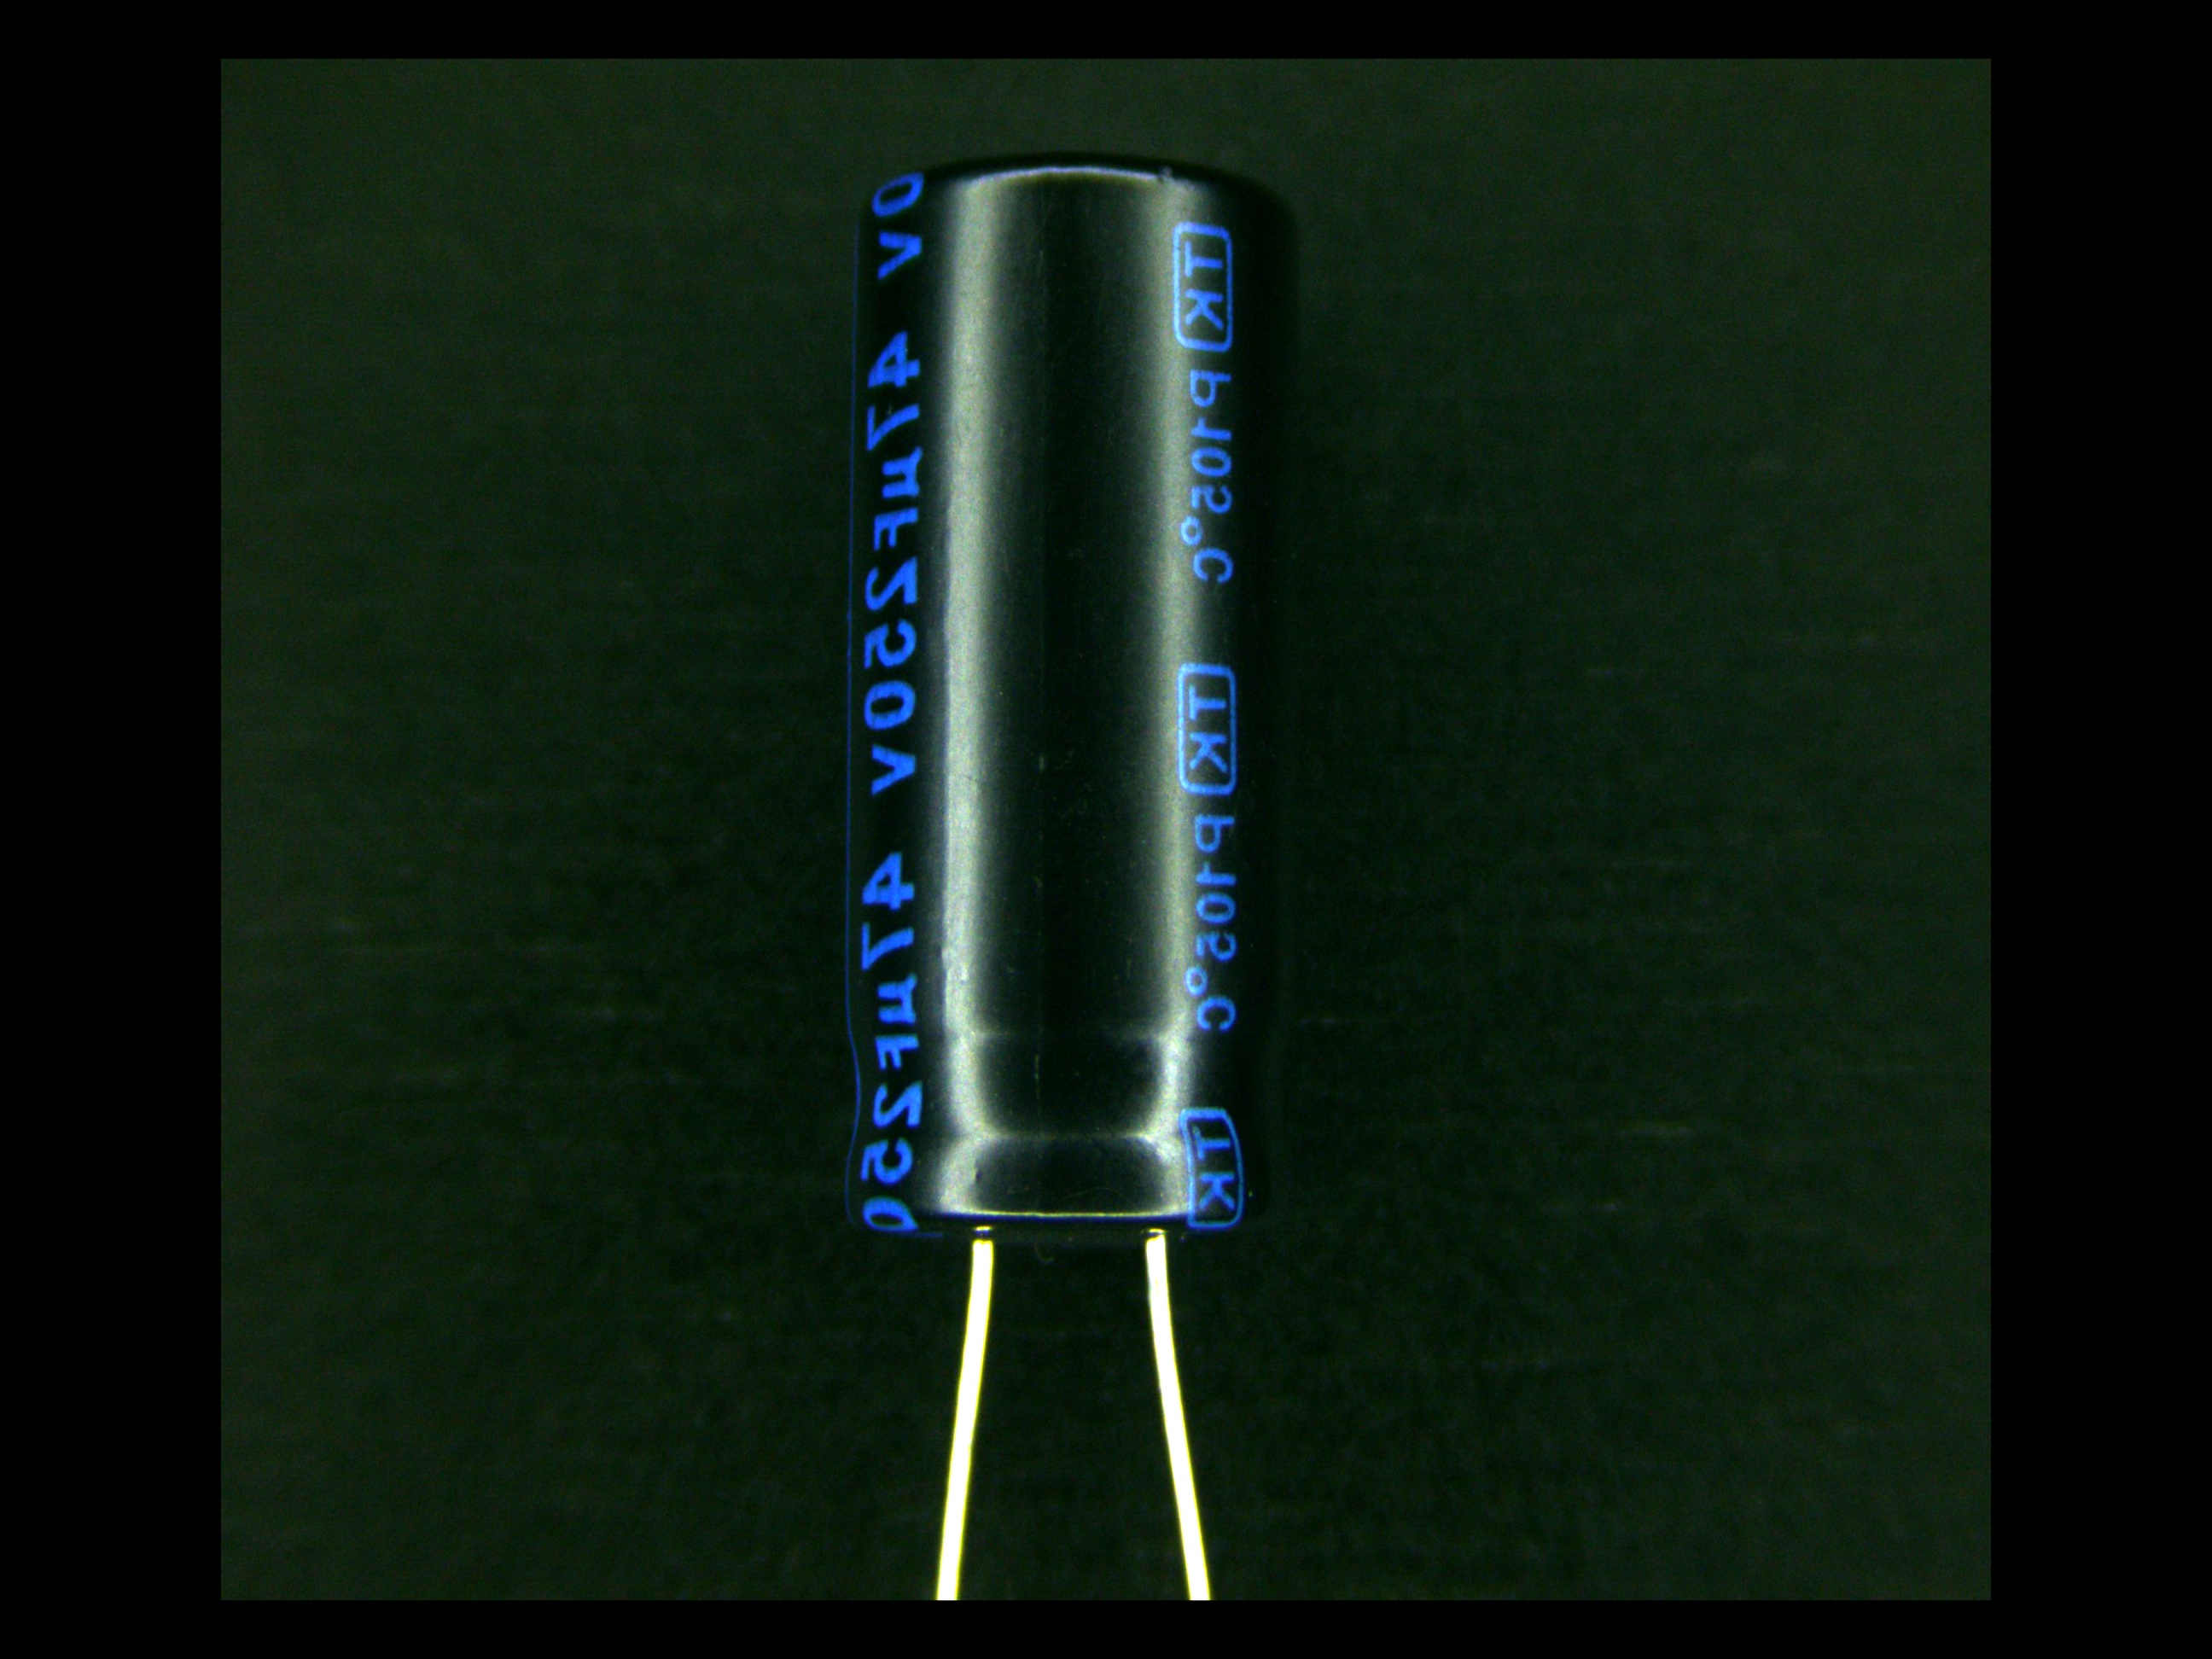c2: (841, 162, 1301, 1352)
